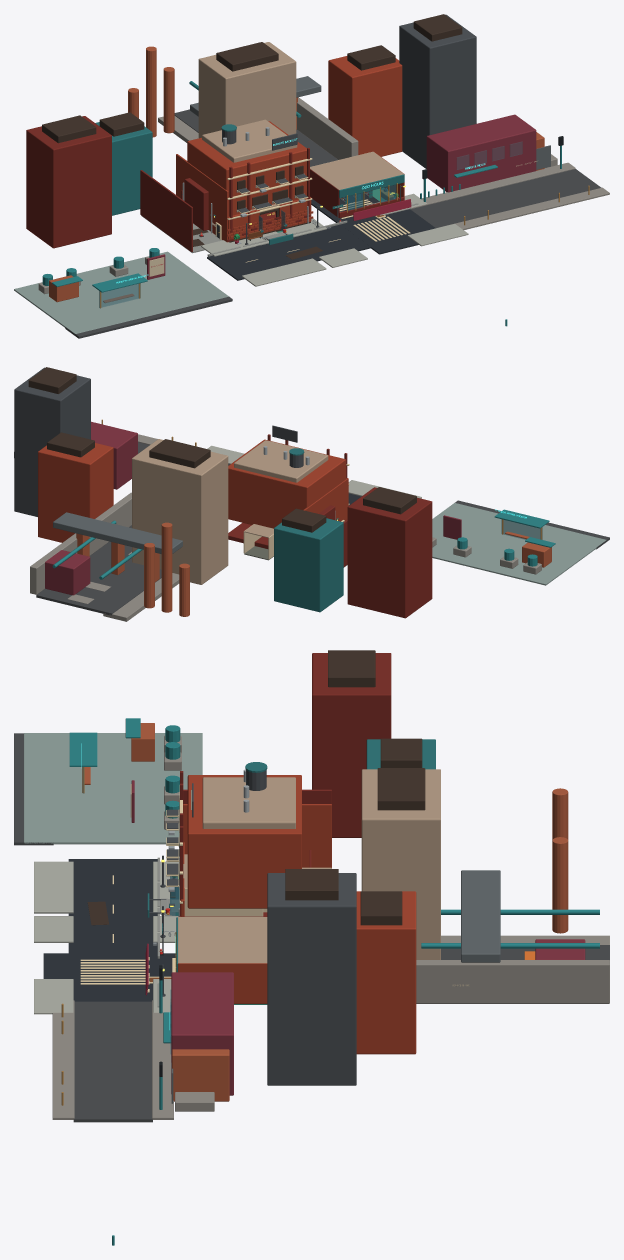
Rendered from infinite_backlot_expanded_world.glb.
3 renders of one model, top to bottom at view 1: azimuth 30°, elevation 25°; view 2: azimuth 150°, elevation 25°; view 3: azimuth 270°, elevation 25°, orthographic. The views are drawn at different scales.
Parts seen in each view (by area): view 1: Skyline_0, Skyline_4, TransitPlaza, Skyline_2, HingeHour_Main, Skyline_3, StreetExtension_Road, Exterior_UpperMass, RoadMain, Skyline_1, AlleyWallNeighbor, RoadCross (+27 smaller); view 2: Skyline_2, Skyline_0, TransitPlaza, Skyline_4, Skyline_1, Skyline_3, Exterior_UpperMass, IndustrialServiceRoad, Exterior_RoofSetback, RailBridgeDeck, RetainingWallEast, HingeHour_Main (+19 smaller); view 3: Skyline_4, TransitPlaza, StreetExtension_Road, Skyline_2, Skyline_0, Exterior_UpperMass, Skyline_3, RetainingWallEast, RoadMain, HingeHour_Main, Exterior_RoofSetback, StoreCeiling (+27 smaller).
Part boxes in pixels (box(x1,y1,x2,y2)): Skyline_0: box(26, 116, 111, 248); Skyline_4: box(399, 14, 476, 168); TransitPlaza: box(14, 251, 228, 333); Skyline_2: box(198, 42, 296, 138); HingeHour_Main: box(426, 114, 536, 192); Skyline_3: box(328, 56, 402, 156); StreetExtension_Road: box(410, 169, 601, 228); Exterior_UpperMass: box(187, 121, 306, 215); RoadMain: box(207, 209, 435, 280); Skyline_1: box(95, 122, 152, 215); AlleyWallNeighbor: box(140, 170, 192, 251); RoadCross: box(311, 193, 420, 254); Skyline_2: box(132, 439, 228, 584); Skyline_0: box(347, 487, 432, 618); TransitPlaza: box(432, 503, 606, 585); Skyline_4: box(14, 367, 90, 516); Skyline_1: box(274, 518, 343, 612); Skyline_3: box(38, 443, 113, 542); Exterior_UpperMass: box(228, 439, 345, 528); IndustrialServiceRoad: box(36, 525, 161, 615); Exterior_RoofSetback: box(234, 440, 328, 482); RailBridgeDeck: box(53, 512, 182, 553); RetainingWallEast: box(30, 492, 131, 594); HingeHour_Main: box(91, 421, 137, 489); Skyline_4: box(267, 873, 356, 1085); TransitPlaza: box(24, 733, 202, 844); StreetExtension_Road: box(73, 1001, 152, 1122); Skyline_2: box(361, 769, 440, 959); Skyline_0: box(312, 653, 391, 837); Exterior_UpperMass: box(187, 775, 301, 908); Skyline_3: box(356, 891, 416, 1054); RetainingWallEast: box(416, 960, 609, 1003); RoadMain: box(68, 859, 157, 1001); HingeHour_Main: box(171, 972, 233, 1095); Exterior_RoofSetback: box(202, 777, 295, 828); StoreCeiling: box(178, 917, 267, 963).
Size of what is drawn, in the model's own units: 92 by 40.62 by 60.
